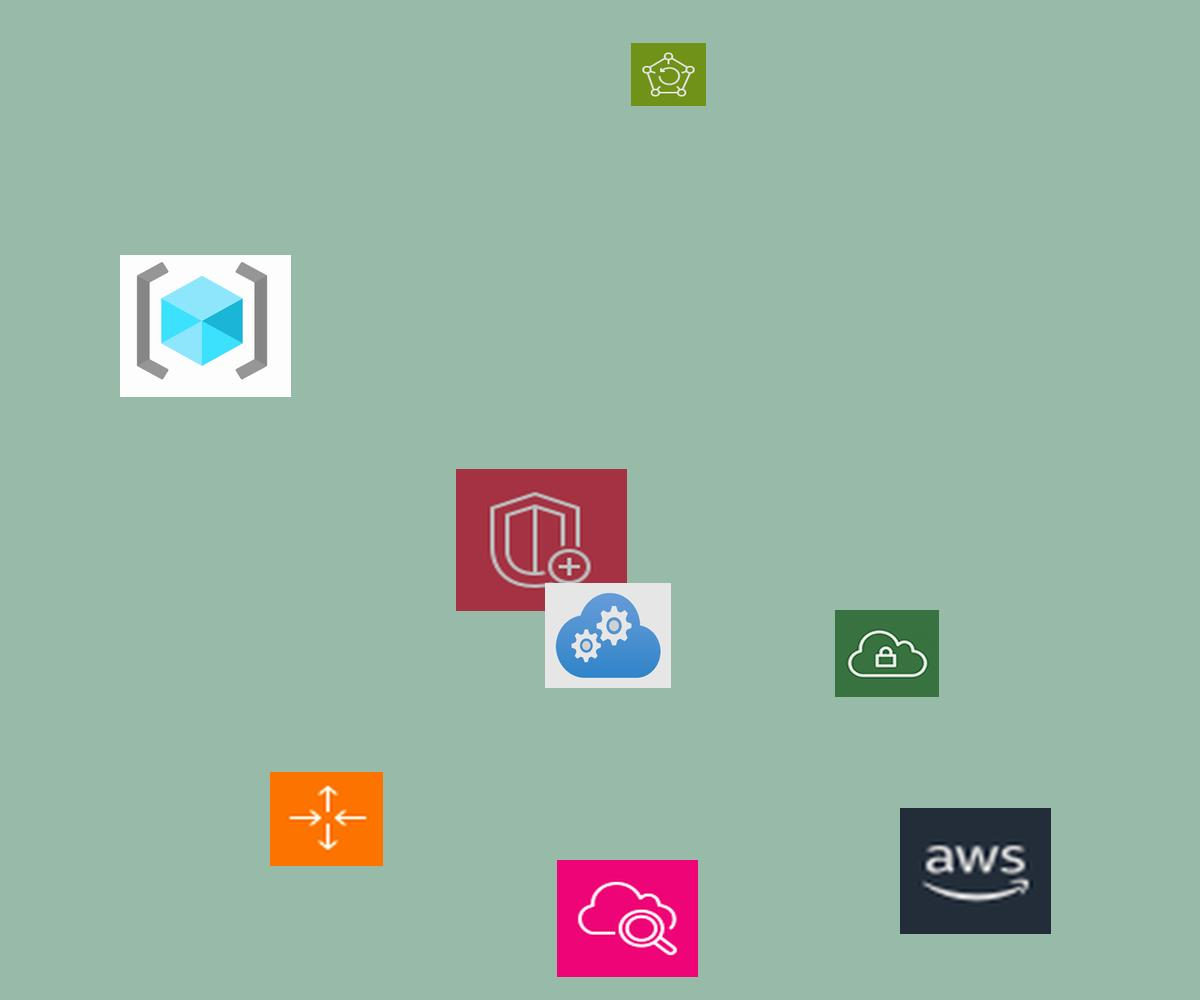AWS-Backup: (631, 43, 706, 106)
AWS-Cloud-logo: (900, 808, 1051, 934)
AWS-CloudWatch: (557, 860, 698, 977)
AWS-Private_vpc: (835, 610, 939, 697)
AWS-Scaling-group: (270, 772, 383, 866)
AWS-Shield: (456, 469, 627, 611)
Azure_cloud_services: (545, 583, 671, 688)
Azure_resource_group: (120, 255, 291, 397)
